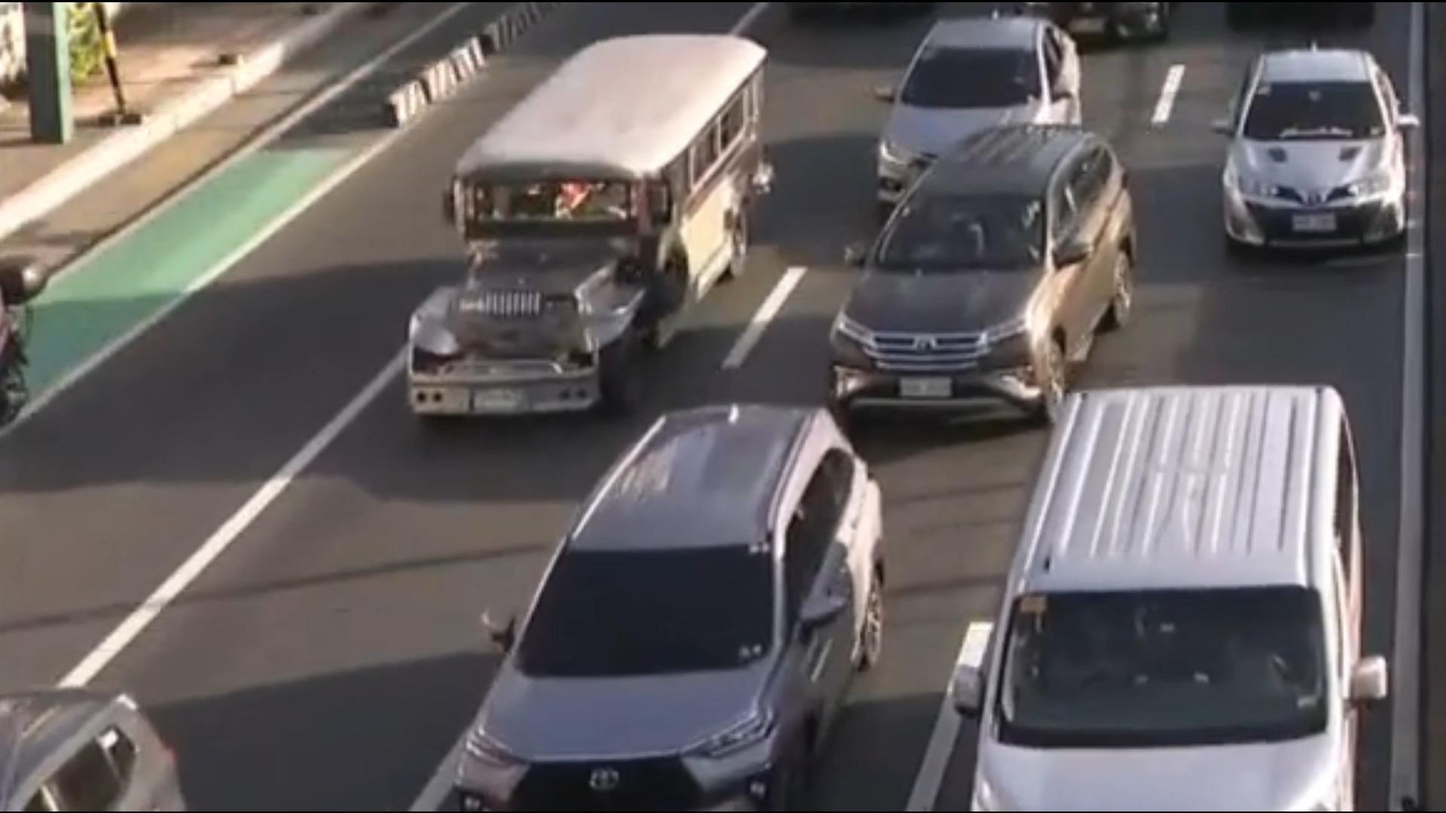Jeepney: (359, 3, 815, 431)
SUV: (367, 365, 919, 813), (822, 131, 1134, 419)
Sedan: (1196, 11, 1428, 271), (861, 15, 1116, 195)
Van: (940, 321, 1389, 813)
